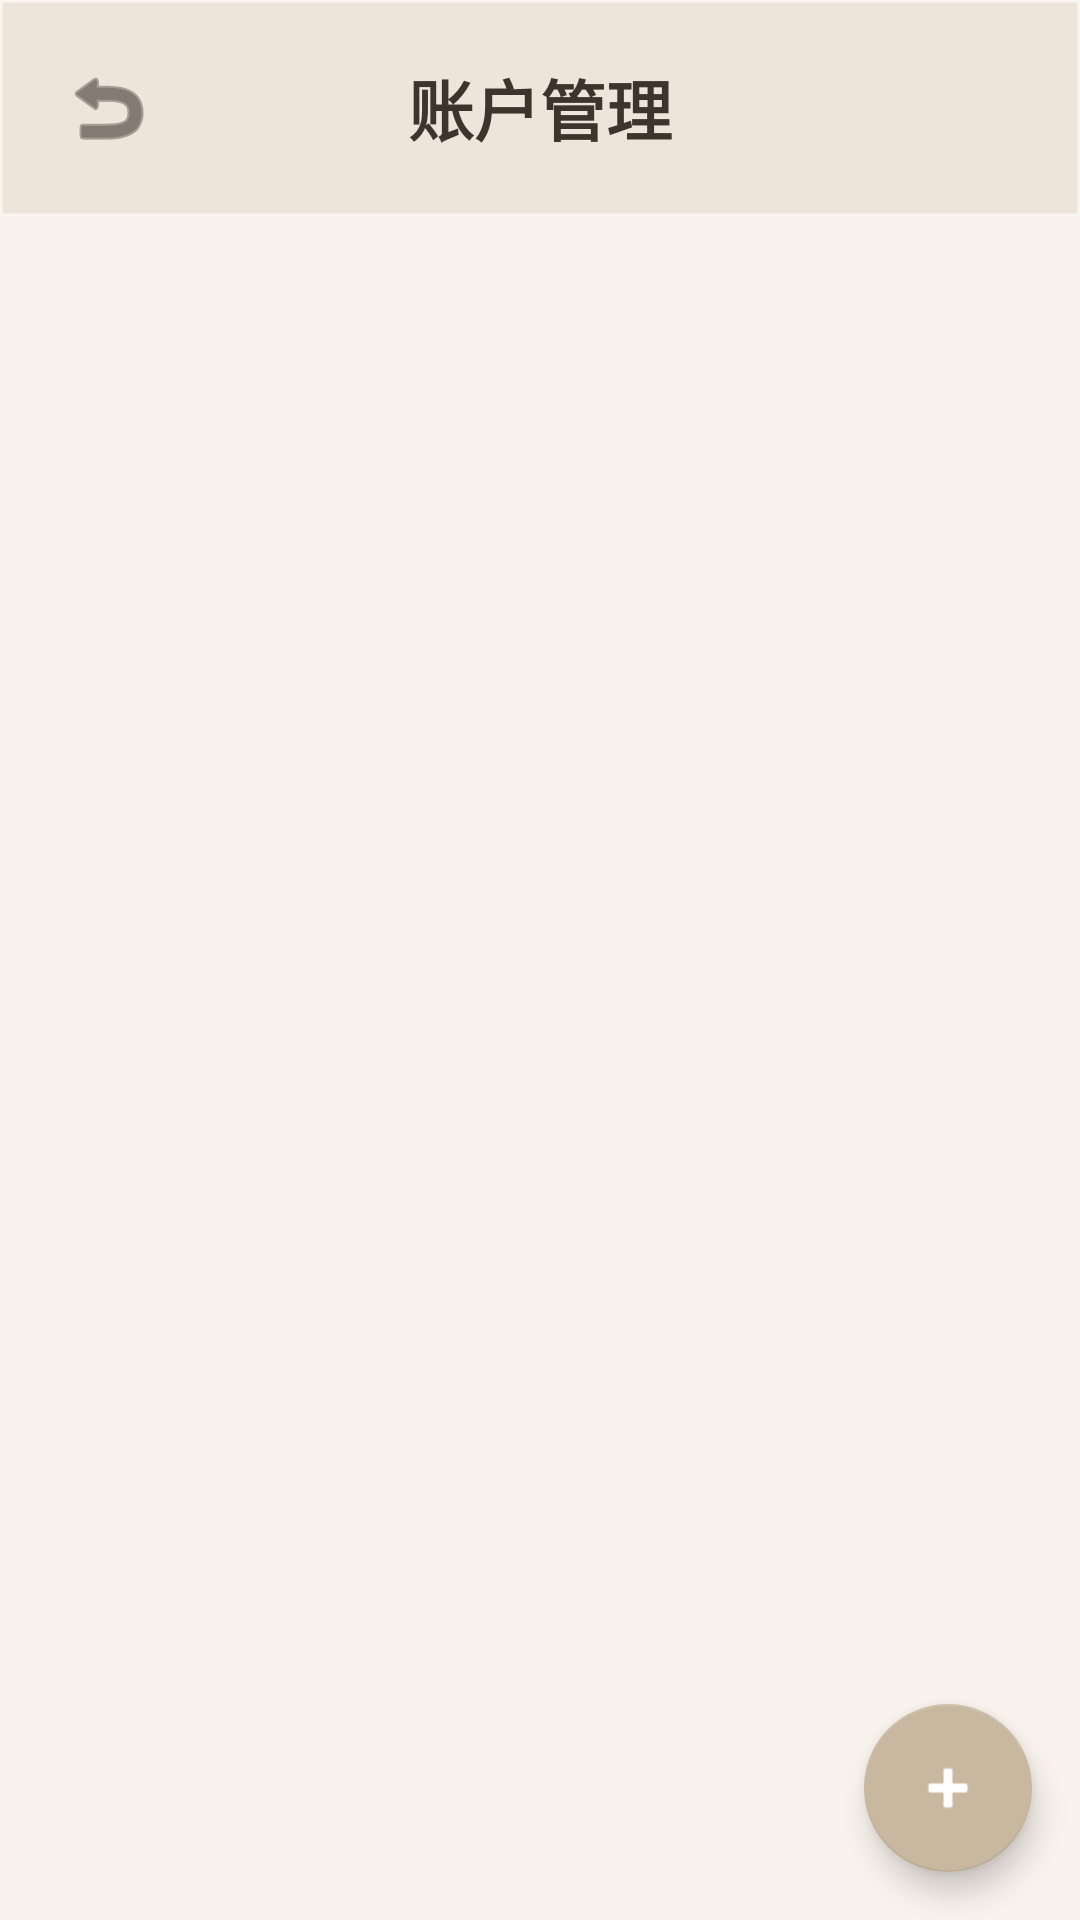

Screen size 1080 × 1920. Icon name, then its center in pixels as [x,y]:
add: [948,1788]
revert: [109,108]
